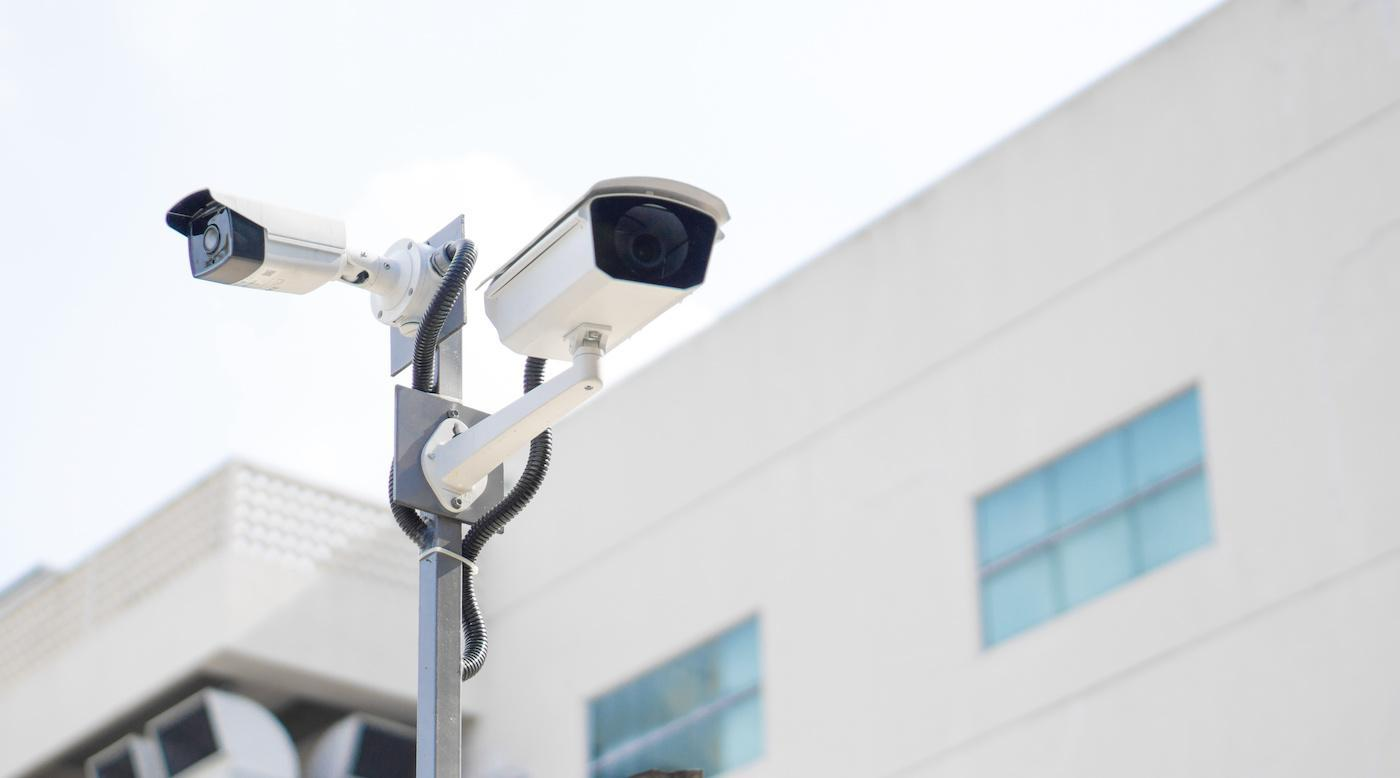CCTV: (420, 177, 732, 513), (165, 189, 446, 339)
